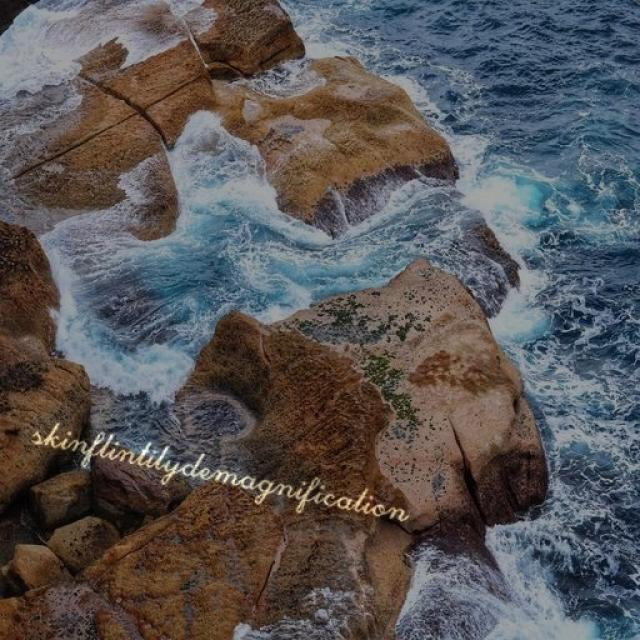watermark: (22, 415, 432, 528)
